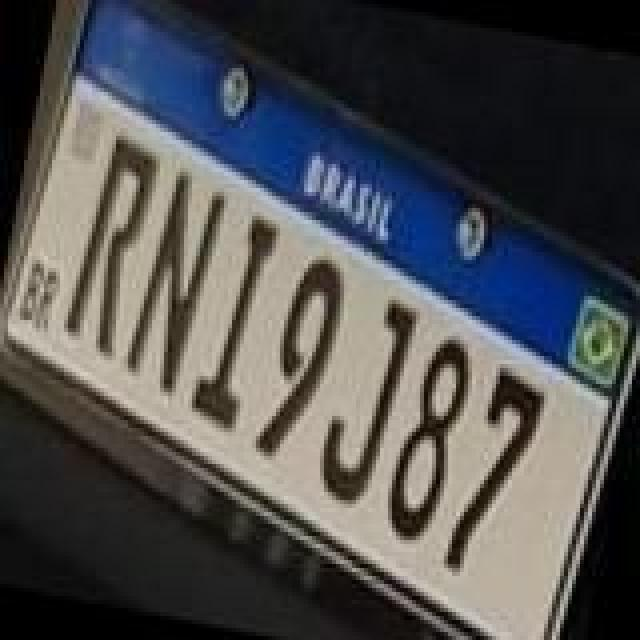7: (440, 360, 552, 584)
8: (378, 332, 478, 548)
9: (250, 252, 350, 468)
I: (184, 206, 280, 434)
J: (312, 288, 424, 512)
N: (120, 162, 232, 398)
R: (58, 128, 166, 360)
